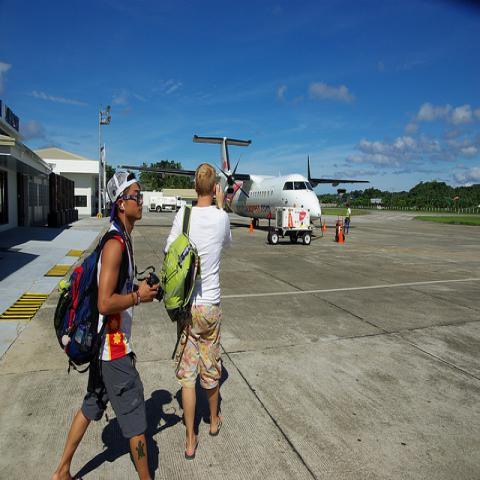truck: (267, 206, 323, 247), (148, 195, 186, 212)
